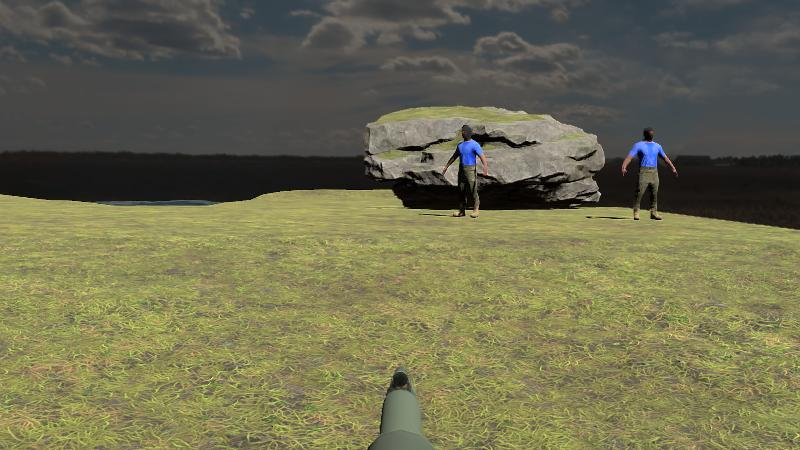Human: (621, 127, 677, 222), (445, 126, 488, 217)
